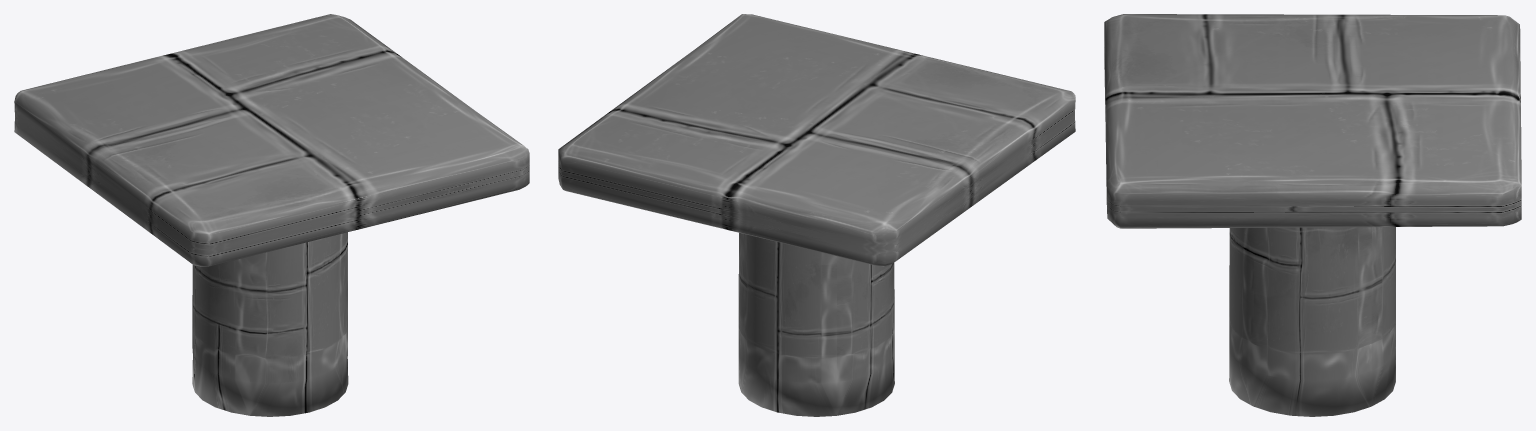
The model's file is SpringTrapPistonflipnormal.fbx.
3 renders of one model, left to right at view 1: azimuth 30°, elevation 25°; view 2: azimuth 150°, elevation 25°; view 3: azimuth 270°, elevation 25°, orthographic. The views are drawn at different scales.
Visible parts, largest first — view 1: SpringTrapPiston_low; view 2: SpringTrapPiston_low; view 3: SpringTrapPiston_low.
Part boxes in pixels (x1,y1,x2,y2): SpringTrapPiston_low: (14, 14, 529, 416); SpringTrapPiston_low: (558, 14, 1075, 416); SpringTrapPiston_low: (1104, 14, 1521, 416).
Size of the model in its own units: 100 by 75.1 by 100.
